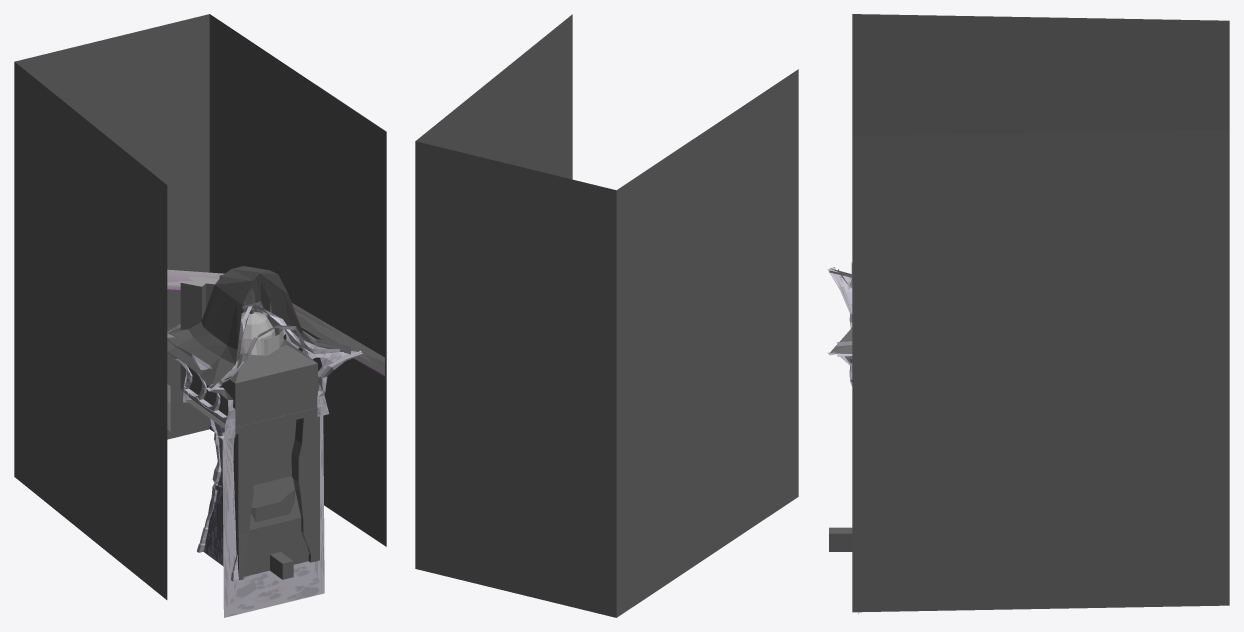
Rendered from jin_04_bake_split.dae.
3 views of the same model, side by side, from view 1: azimuth 30°, elevation 25°; view 2: azimuth 150°, elevation 25°; view 3: azimuth 270°, elevation 25° (orthographic). The views are drawn at different scales.
Parts seen in each view (by area): view 1: pCube5_q00017, S_f2_yane, a_f2_hon, a_gawa01, S_msk, polySurface126_q00004, polySurface125_q00003, polySurface12_q00053, a_kagu01, pPlane3_q00019, polySurface2_q00055, S_f2_hasi (+6 smaller); view 2: pCube5_q00017; view 3: pCube5_q00017, a_bero_1.
Boxes of the visible parts, x1,y1,x2,y2 form: pCube5_q00017: [14, 14, 386, 599]; S_f2_yane: [167, 266, 360, 388]; a_f2_hon: [188, 339, 317, 427]; a_gawa01: [215, 420, 308, 576]; S_msk: [222, 415, 324, 617]; polySurface126_q00004: [291, 415, 319, 562]; polySurface125_q00003: [233, 431, 253, 580]; polySurface12_q00053: [167, 301, 353, 388]; a_kagu01: [180, 266, 272, 389]; pPlane3_q00019: [167, 277, 384, 375]; polySurface2_q00055: [167, 350, 362, 439]; S_f2_hasi: [175, 329, 361, 422]; pCube5_q00017: [415, 14, 798, 617]; pCube5_q00017: [852, 14, 1229, 612]; a_bero_1: [829, 527, 852, 551].
Size of the model in its own units: 100 by 196 by 139.
